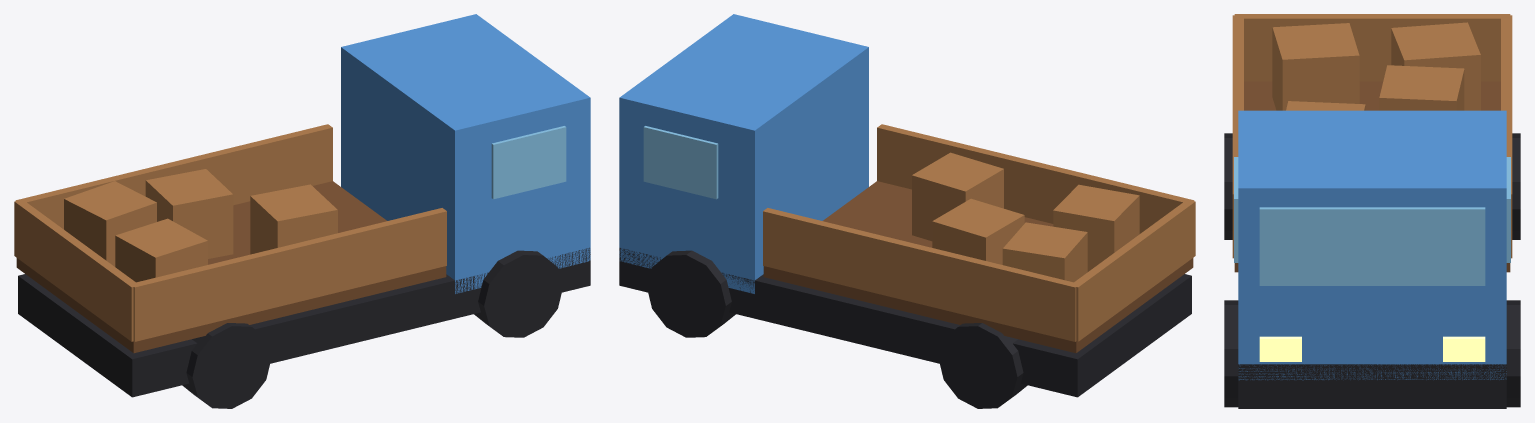
Rendered from delivery_truck.glb.
The picture shows the model from 3 angles, left to right: view 1: azimuth 30°, elevation 25°; view 2: azimuth 150°, elevation 25°; view 3: azimuth 270°, elevation 25°; orthographic projection. The views are drawn at different scales.
Parts seen in each view (by area): view 1: delivery_truck; view 2: delivery_truck; view 3: delivery_truck.
Boxes of the visible parts, x1,y1,x2,y2 form: delivery_truck: (14, 14, 590, 408); delivery_truck: (619, 14, 1195, 408); delivery_truck: (1224, 14, 1520, 408).
Size of the model in its own units: 4.46 by 2 by 2.1.
